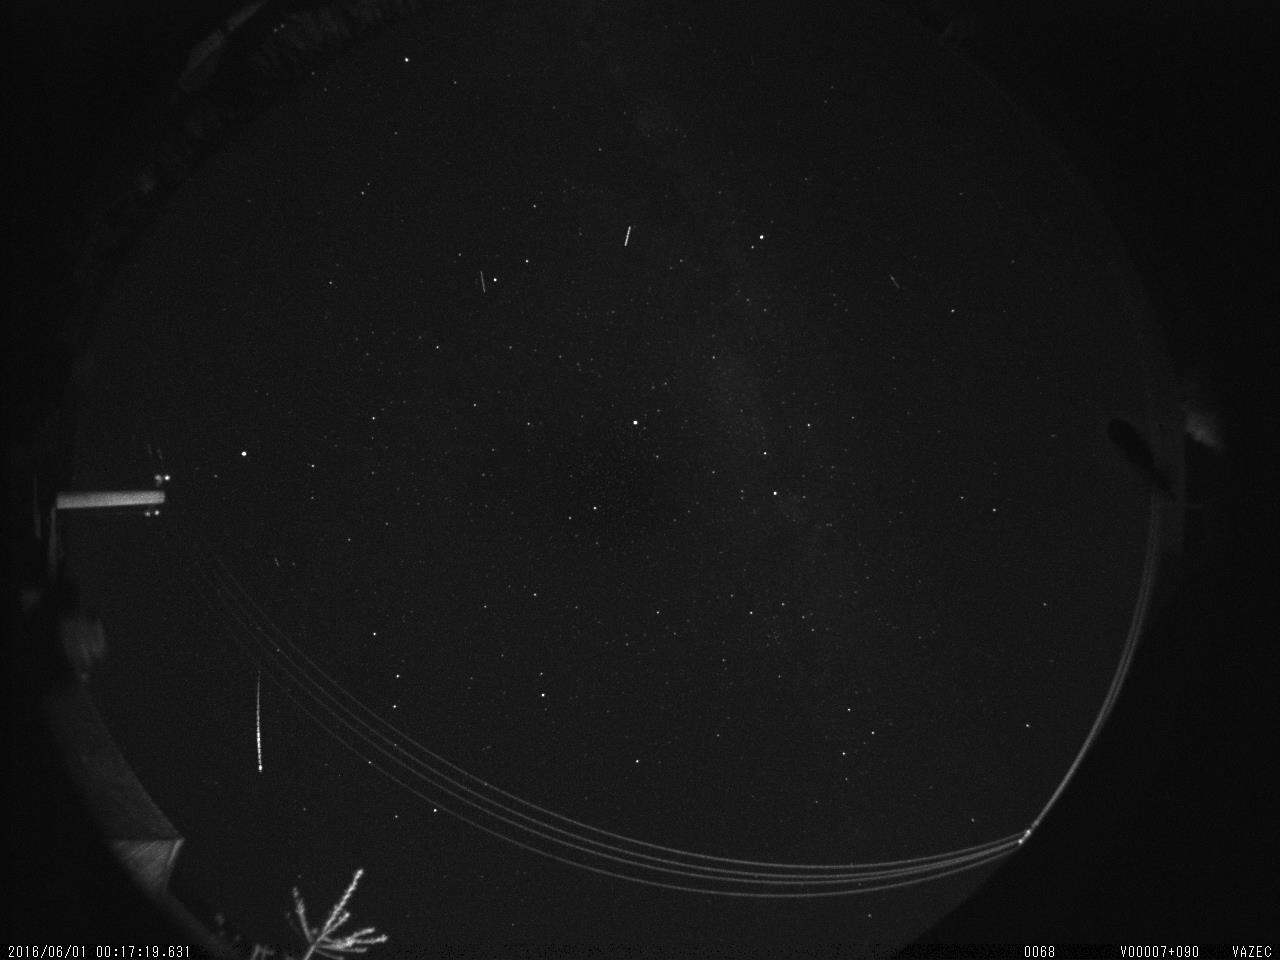meteor: (243, 652, 280, 778)
satelite: (616, 220, 636, 254)
